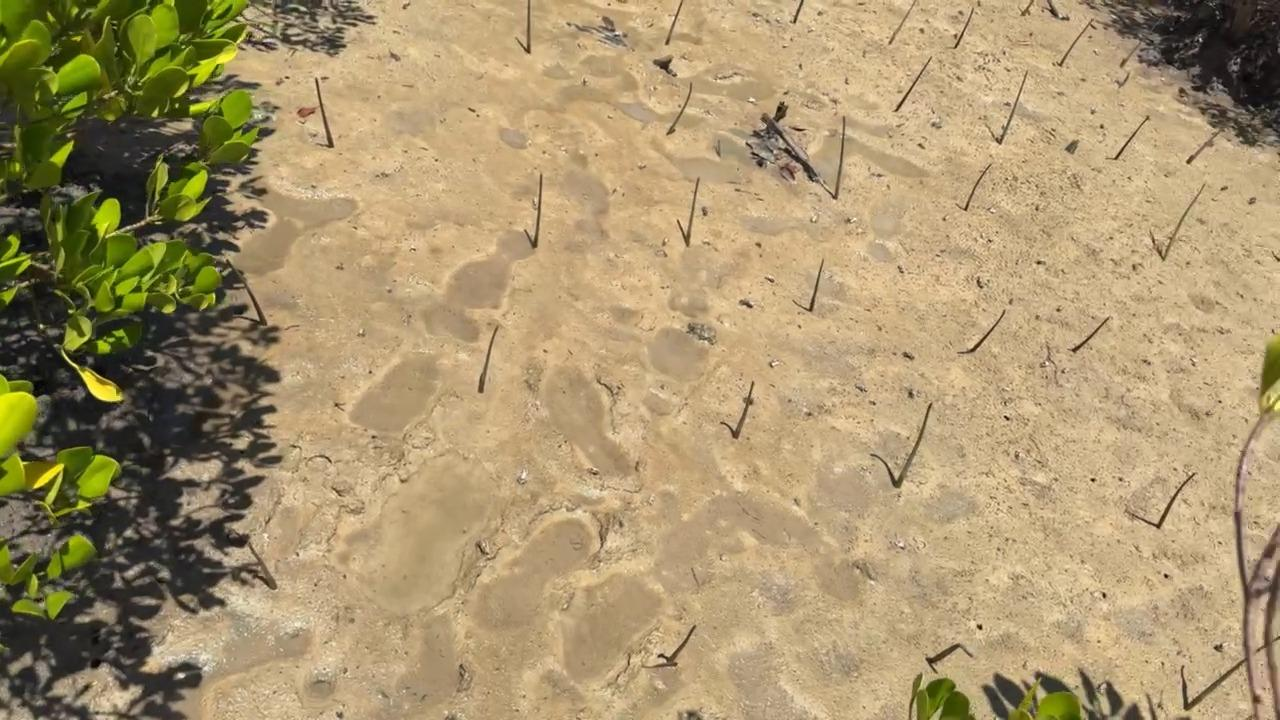Tree: (895, 401, 933, 488), (1164, 185, 1207, 257), (226, 259, 269, 326), (1158, 471, 1198, 528), (894, 57, 934, 111), (999, 73, 1028, 145), (1121, 18, 1162, 64), (1058, 17, 1095, 66), (314, 76, 335, 148), (971, 309, 1006, 352), (1114, 116, 1148, 160), (666, 81, 693, 134), (247, 543, 276, 590), (887, 0, 917, 45), (479, 326, 499, 393), (1072, 317, 1110, 352), (733, 380, 755, 440), (1188, 129, 1223, 163), (670, 626, 700, 665), (966, 165, 991, 210), (833, 116, 847, 196), (929, 642, 977, 665), (686, 179, 700, 246), (808, 259, 826, 311), (954, 6, 974, 47), (665, 0, 683, 45), (533, 174, 543, 249), (1181, 665, 1191, 709), (526, 0, 533, 52), (793, 0, 804, 22)
